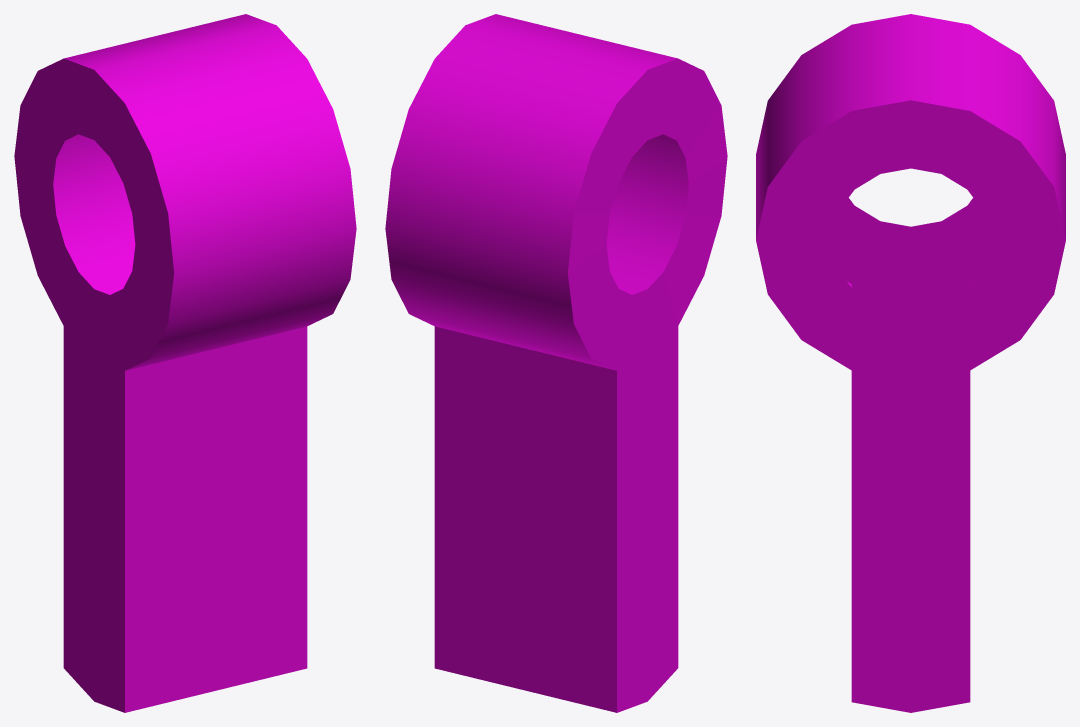
Rendered from SM_PipeConstruction.fbx.
3 renders of one model, left to right at view 1: azimuth 30°, elevation 25°; view 2: azimuth 150°, elevation 25°; view 3: azimuth 270°, elevation 25°, orthographic. The views are drawn at different scales.
Parts seen in each view (by area): view 1: pCylinder101; view 2: pCylinder101; view 3: pCylinder101.
Boxes of the visible parts, x1=… form: pCylinder101: x1=14, y1=14, x2=356, y2=712; pCylinder101: x1=385, y1=14, x2=727, y2=712; pCylinder101: x1=756, y1=14, x2=1065, y2=712.
Bounding box in the file's own units: 187 × 620 × 284.
